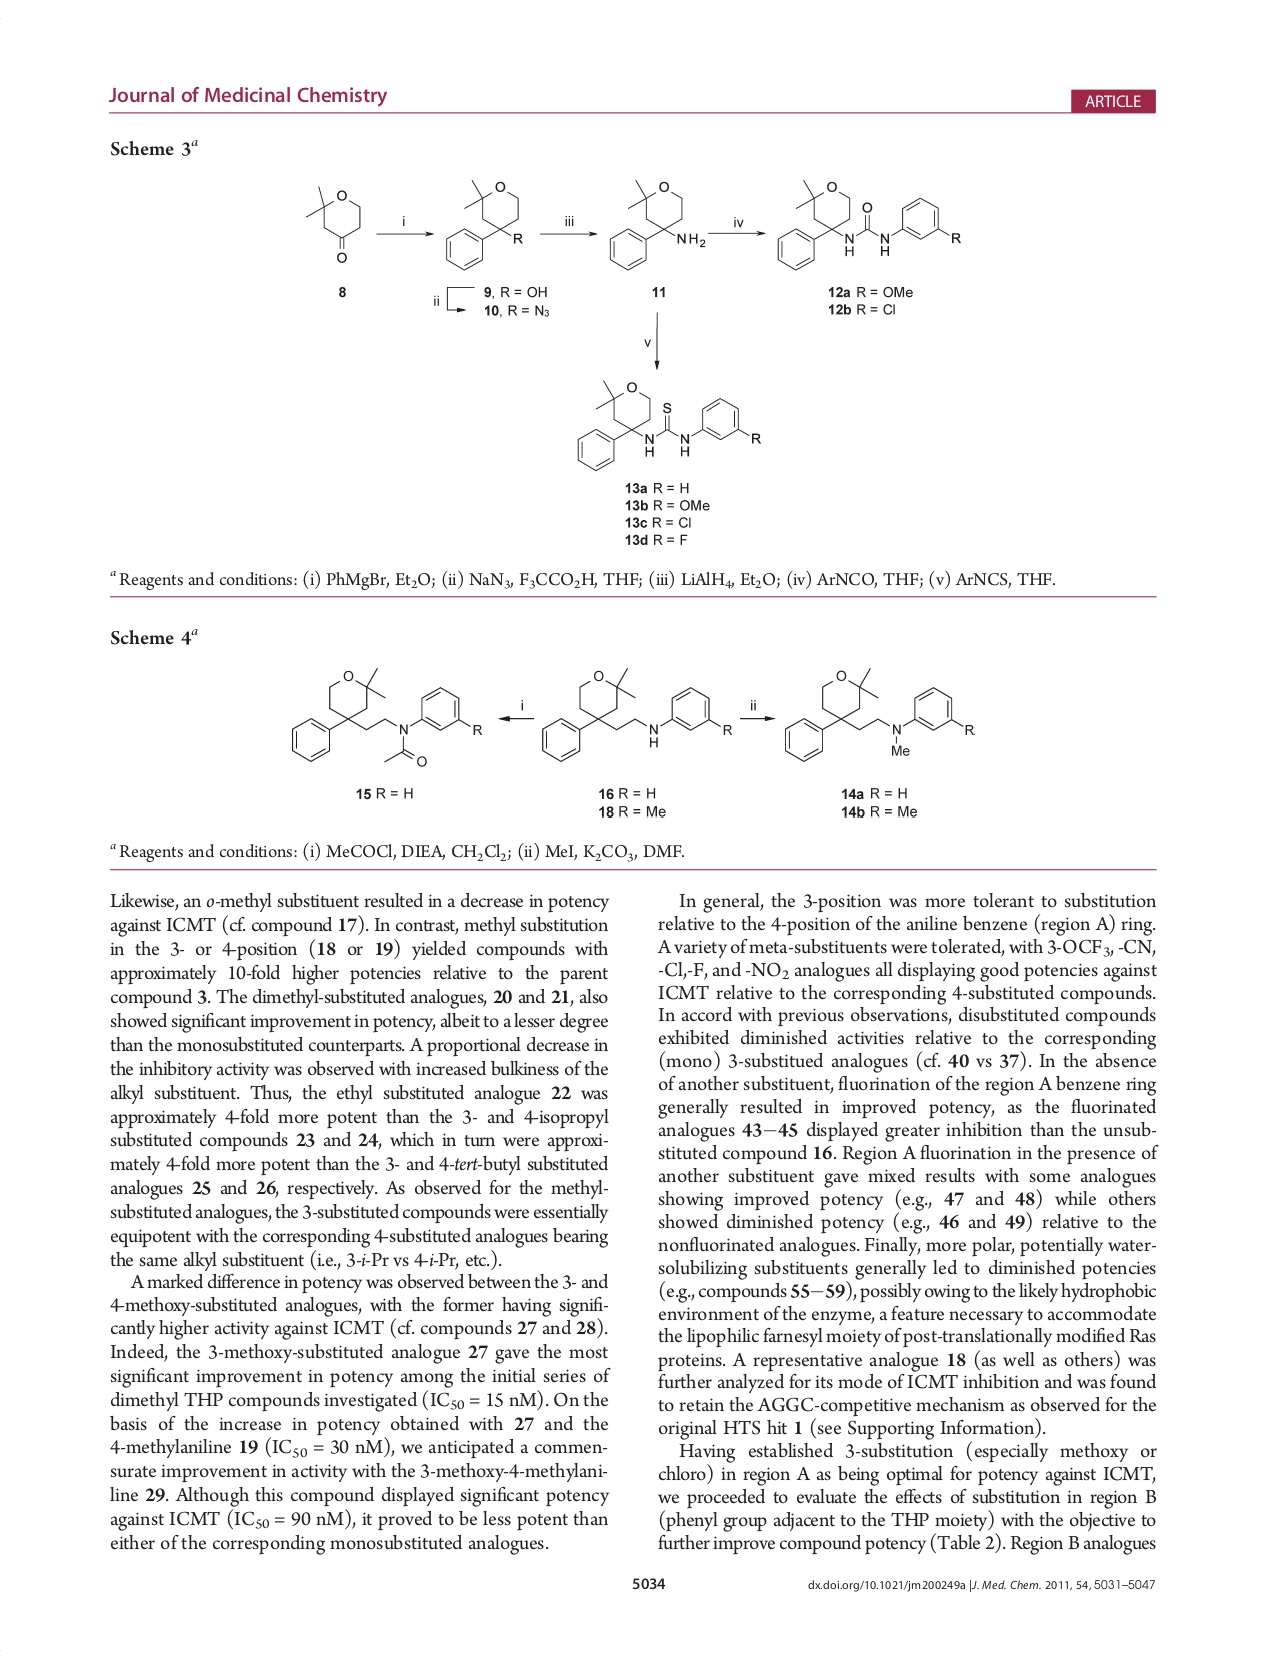exist_molecular: (286, 665, 485, 770), (781, 662, 976, 766), (539, 666, 735, 765), (573, 376, 765, 473), (773, 176, 961, 273), (606, 173, 707, 273), (442, 177, 524, 274), (298, 180, 367, 269)
